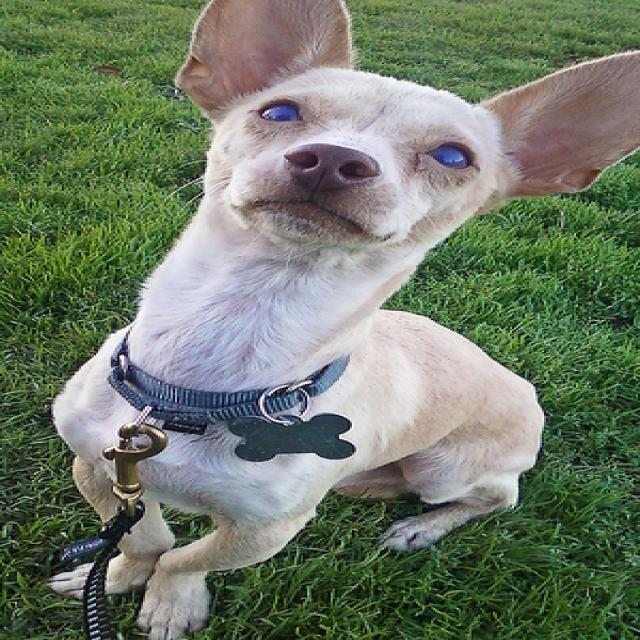dog-chihuahua: (26, 1, 636, 637)
